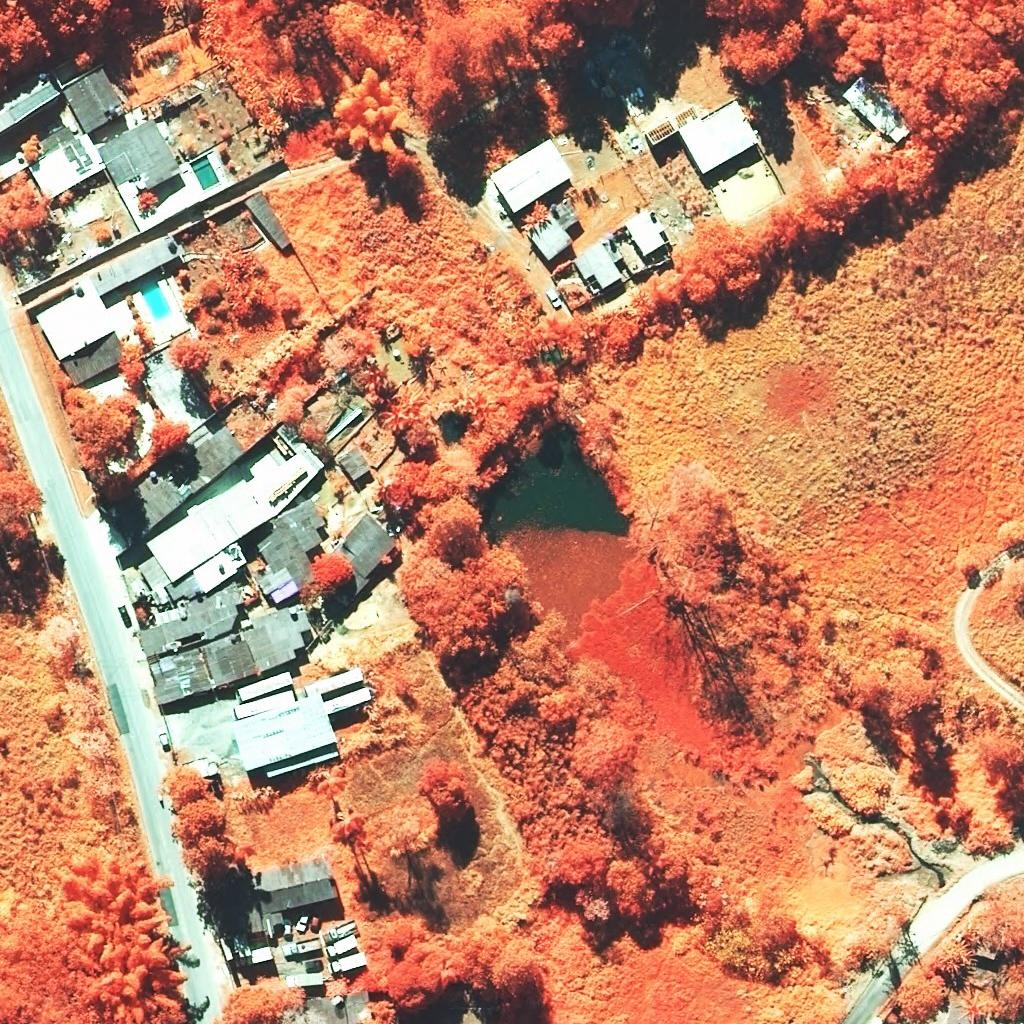pool: (140, 282, 172, 322), (190, 155, 220, 190)
